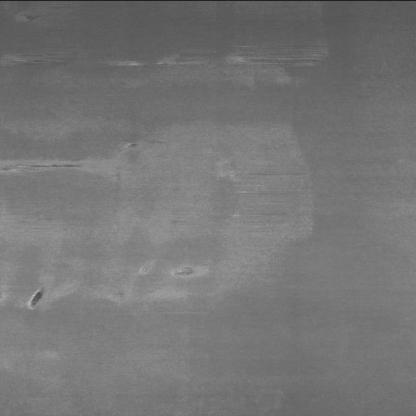rolled_pit: (19, 275, 71, 320)
